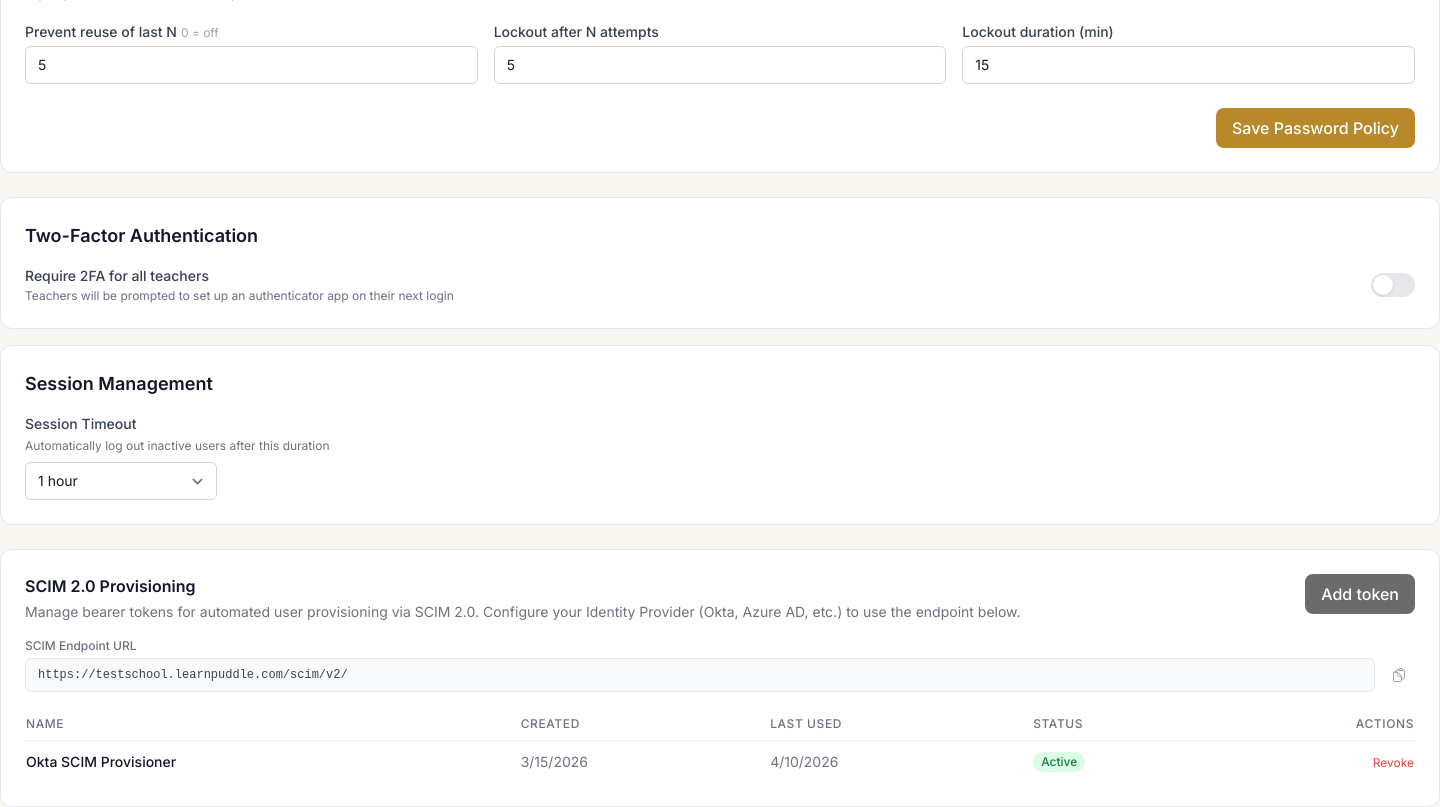
Test: SCIMTokenCard — create token form › shows create form when "Add token" button is clicked
(page scrolled)
Click the button "Add token" at point(1360, 594), box [1305,574,1415,614]
(page scrolled)
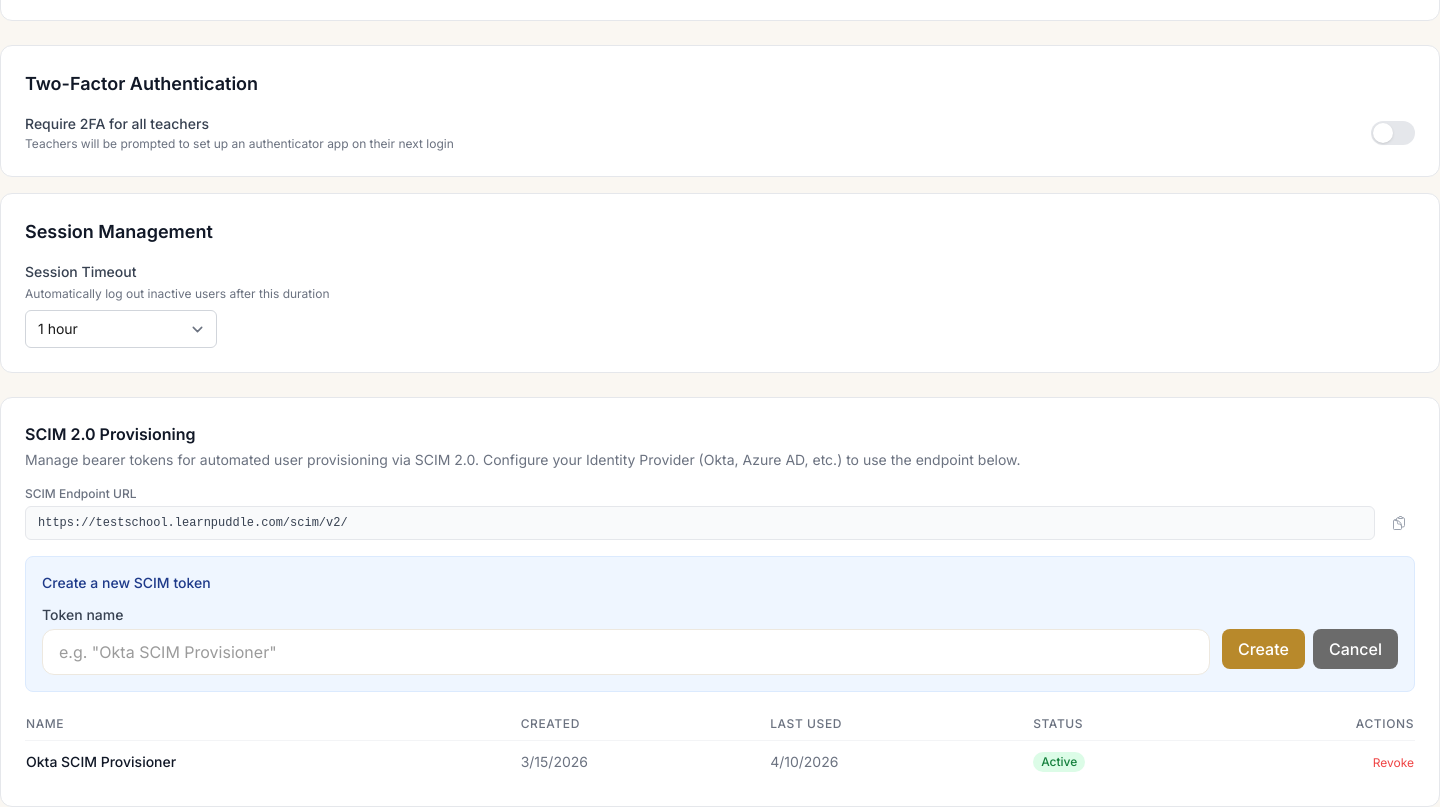
Expected: the text "Create a new SCIM token" is shown, [42,574,211,591]
Expected: the button "Create" is shown, [1222,629,1305,669]
Expected: the button "Cancel" is shown, [1313,629,1398,669]
